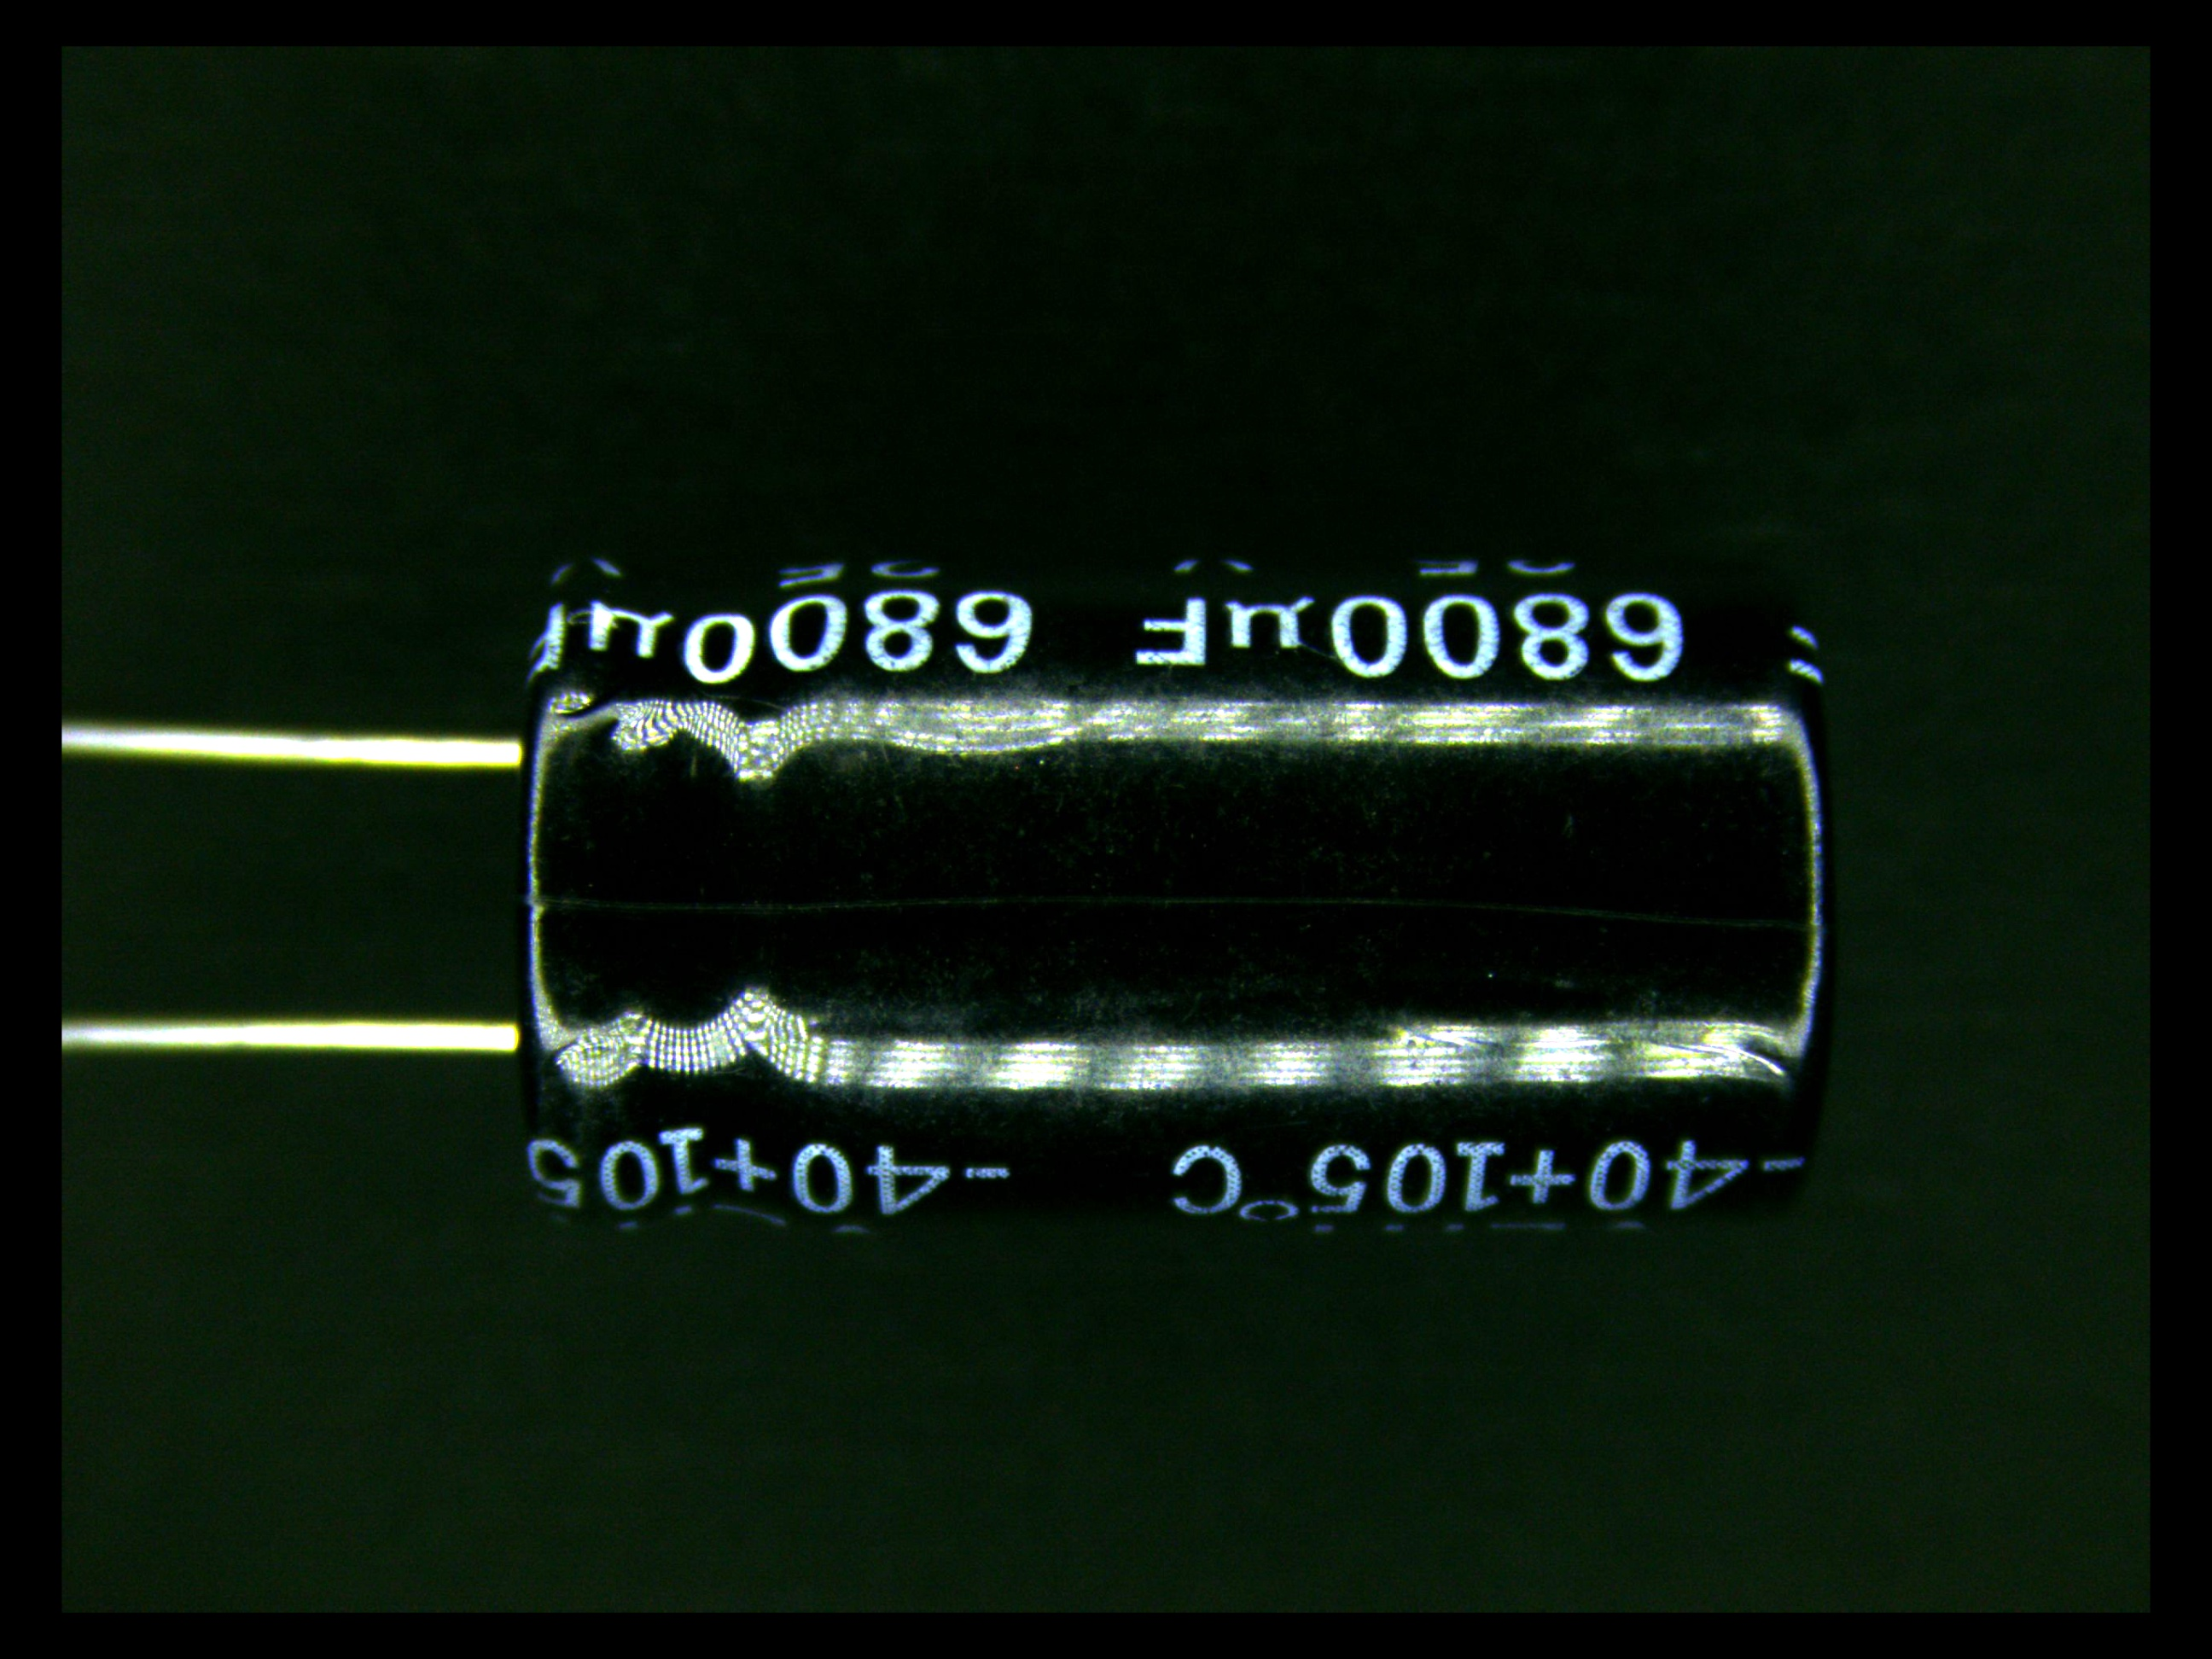c3: (221, 544, 1848, 1236)
